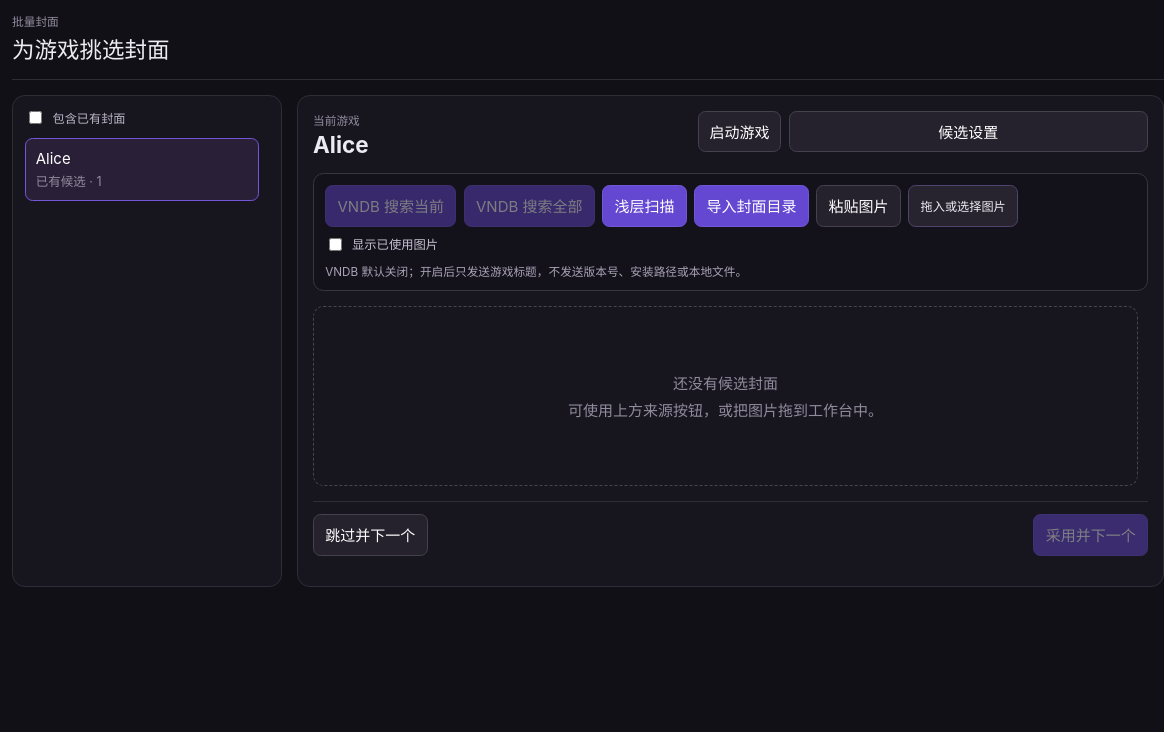
Test: CoverWizardWorkspace › recovers the batch launch button after business failure
Click the button with test id "cover-launch-current". click: (740, 132)
box: [698,111,781,152]
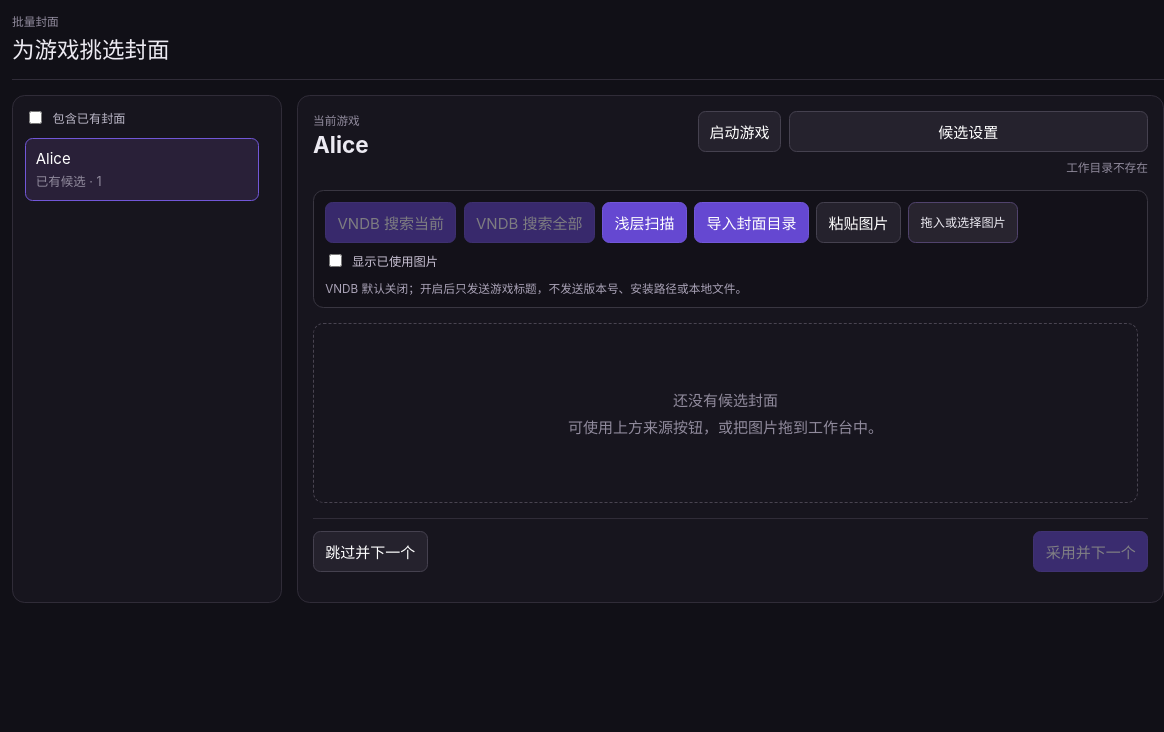
Expected: the text with test id "cover-launch-message" reads "工作目录不存在", [1066,160,1148,174]
